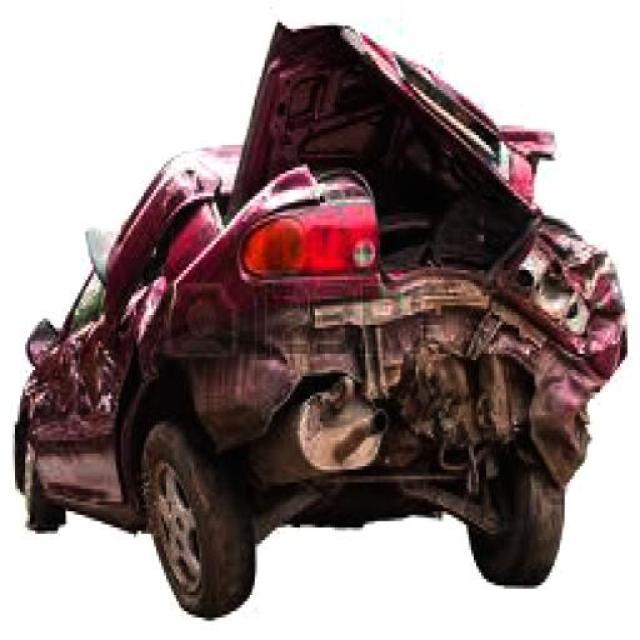Car-Damage: (25, 18, 626, 529)
